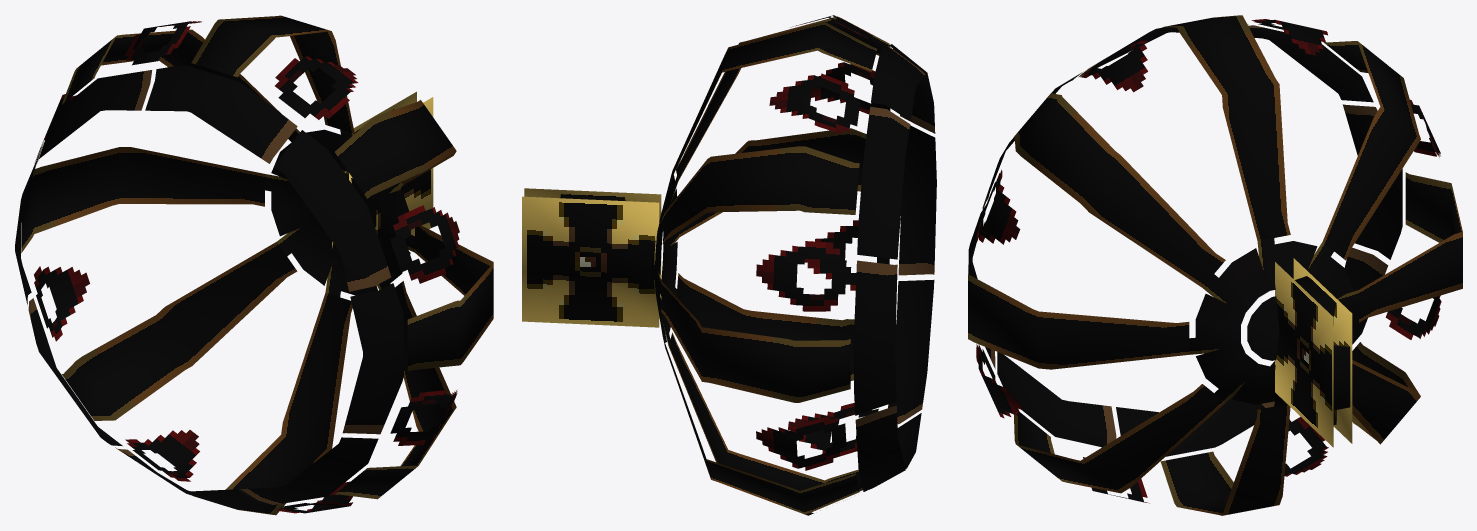
The model's file is cap_crown_royal.dae.
3 renders of one model, left to right at view 1: azimuth 30°, elevation 25°; view 2: azimuth 150°, elevation 25°; view 3: azimuth 270°, elevation 25°, orthographic. The views are drawn at different scales.
Visible parts, largest first — view 1: cap_crown_royal; view 2: cap_crown_royal; view 3: cap_crown_royal.
Boxes of the visible parts, x1,y1,x2,y2 form: cap_crown_royal: (15,15,493,515); cap_crown_royal: (522,15,936,515); cap_crown_royal: (968,15,1462,515).
Size of the model in its own units: 23.89 by 26.96 by 25.21.
3 materials, 3 textured.
